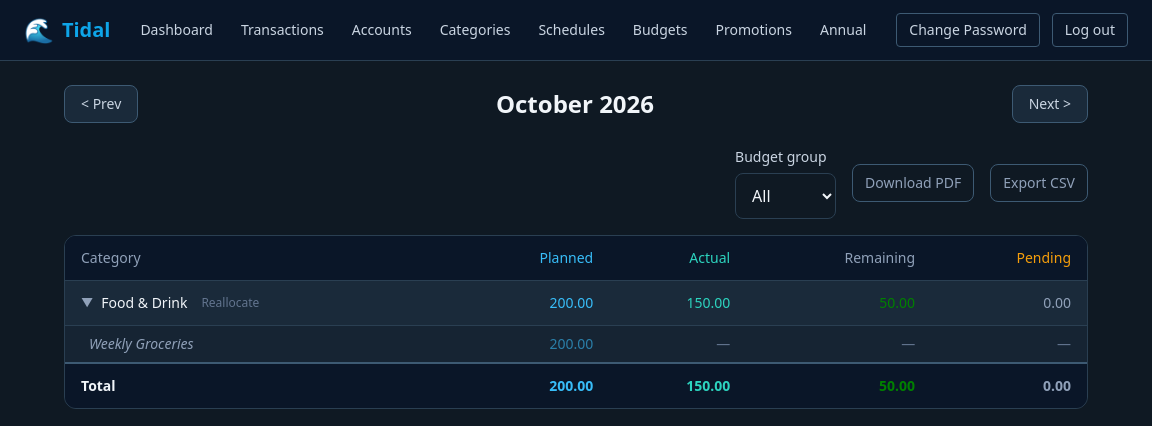
Test case: MonthlyPlanView › toggle button re-expands a collapsed category
Expected: the text "Food & Drink" is shown, [101,293,187,312]
Note: Collapse first
Click the button named "collapse food". click: (87, 303)
box: [81,295,93,311]
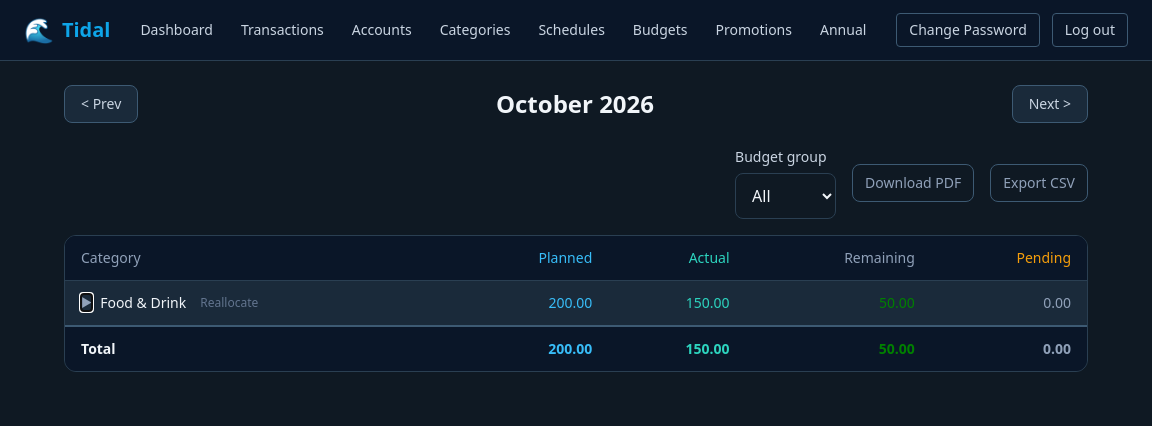
Now the text "Weekly Groceries" is gone
Click the button named "expand food". click: (87, 303)
box: [81,295,92,311]
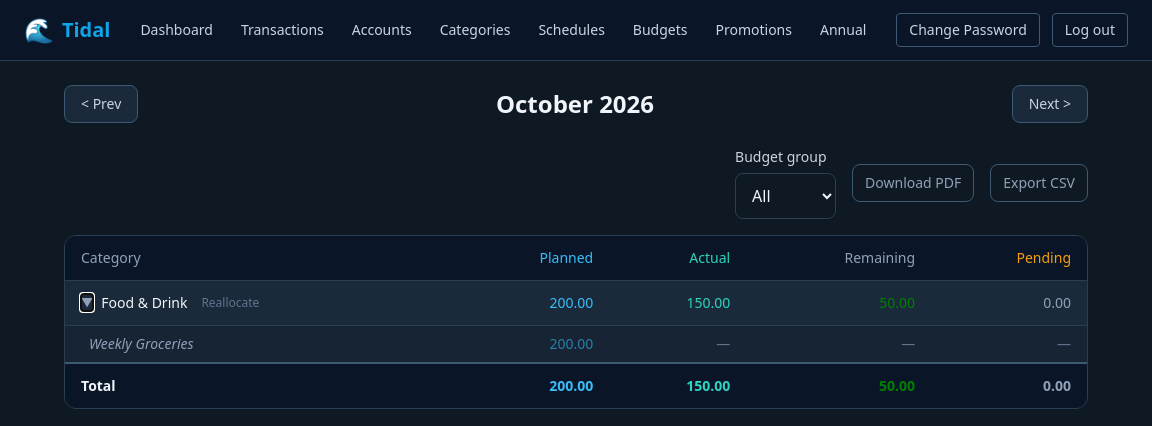
Now the text "Weekly Groceries" is shown, box [65,326,455,363]
